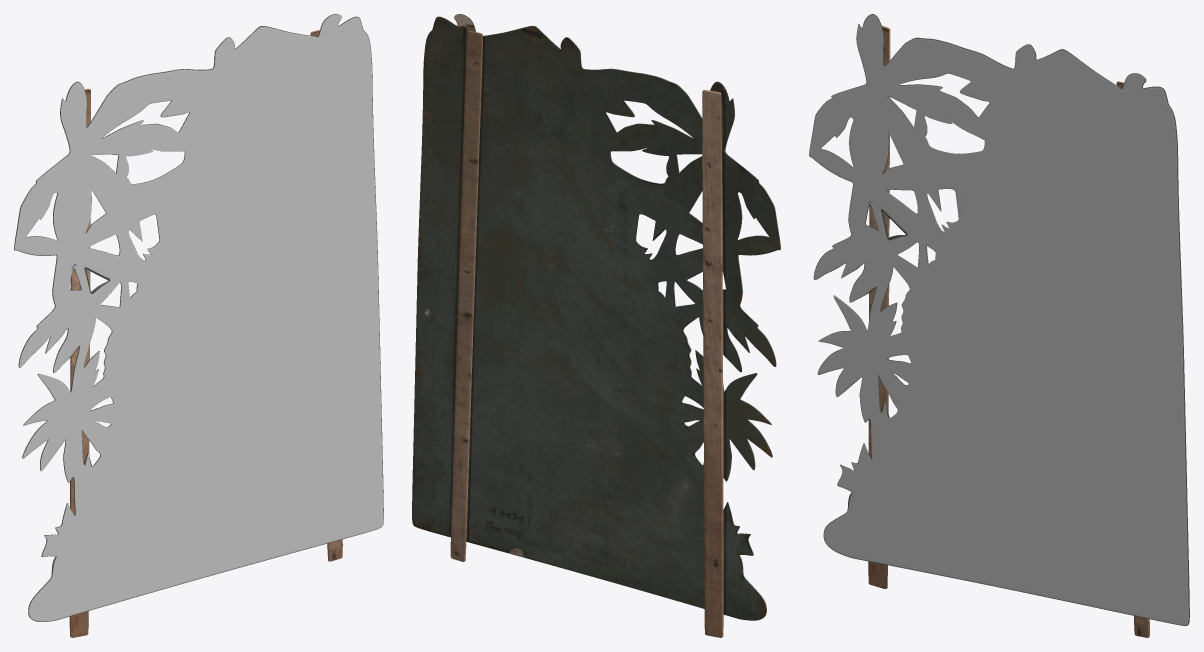
3 renders of one model, left to right at view 1: azimuth 30°, elevation 25°; view 2: azimuth 150°, elevation 25°; view 3: azimuth 330°, elevation 25°, orthographic. The views are drawn at different scales.
Visible parts, largest first — view 1: A3191, stick1; view 2: A3191, stick1, stick2; view 3: A3191, stick1.
Part boxes in pixels (left/top/right/bottom): A3191: left=14, top=14, right=383, bottom=621; stick1: left=69, top=88, right=90, bottom=637; A3191: left=412, top=14, right=780, bottom=620; stick1: left=702, top=90, right=723, bottom=637; stick2: left=450, top=30, right=482, bottom=561; A3191: left=809, top=14, right=1189, bottom=625; stick1: left=868, top=25, right=890, bottom=588.
Bounding box in the file's own units: 71.13 × 104 × 0.6917.
